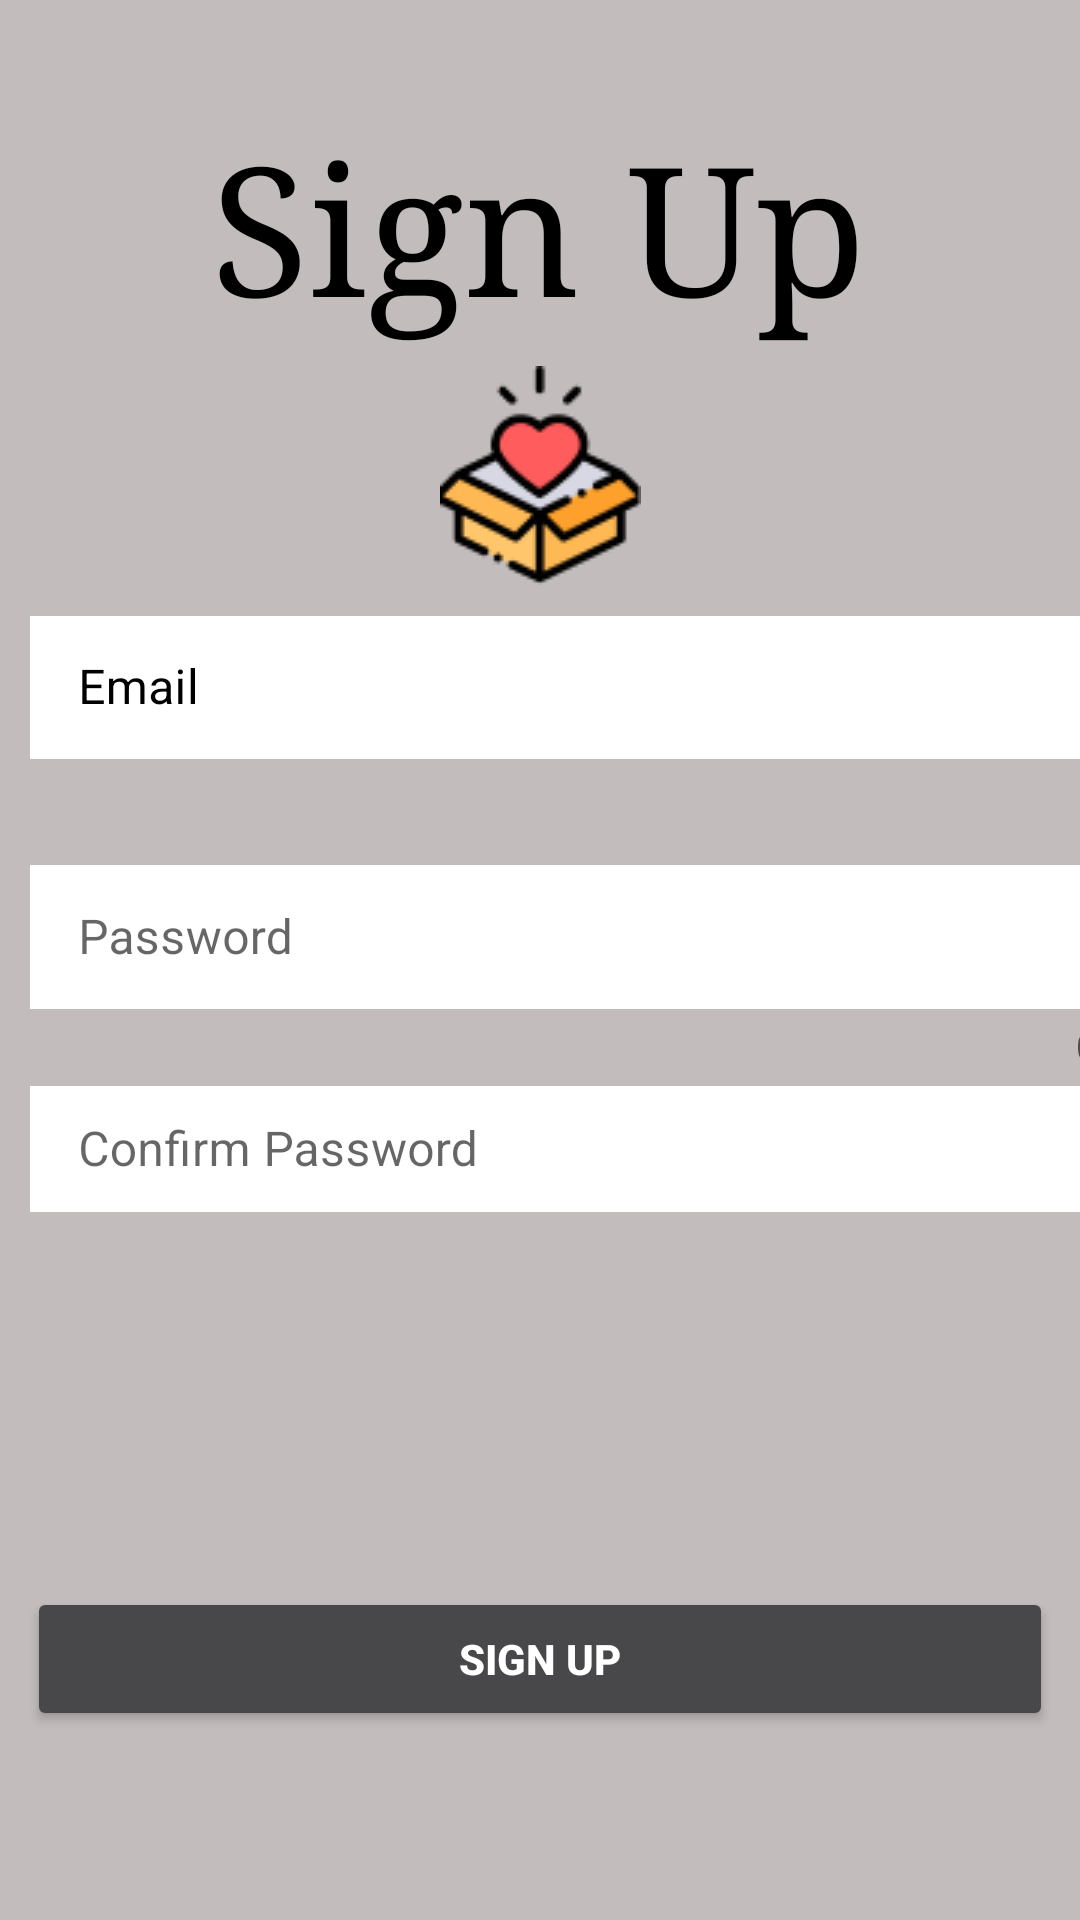

Where icons sit on this 1080px x 1920px app screen, as (x1, y1, x2, y2):
donate: (440, 366, 641, 583)
